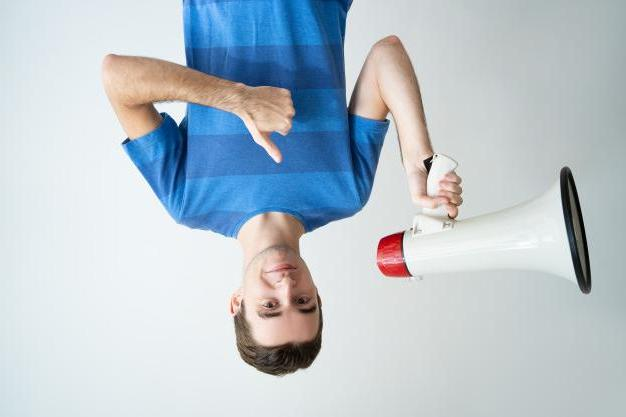thumbsdown: (261, 87, 296, 164)
